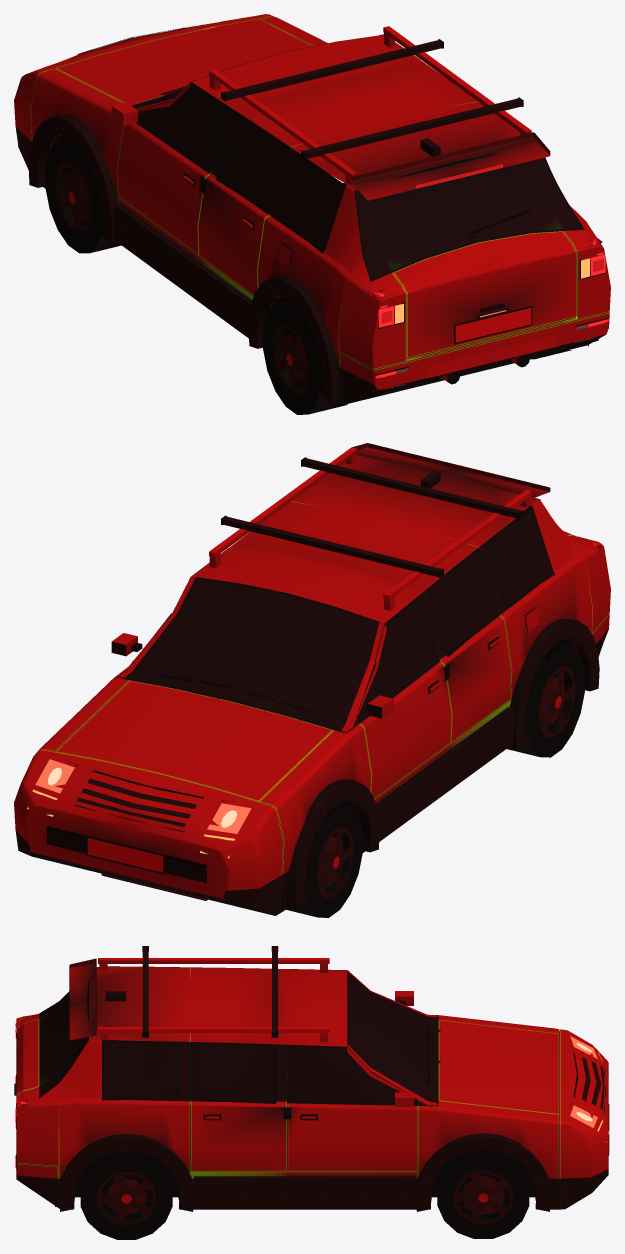
Rendered from body.glb.
3 renders of one model, top to bottom at view 1: azimuth 30°, elevation 25°; view 2: azimuth 150°, elevation 25°; view 3: azimuth 270°, elevation 25°, orthographic. The views are drawn at different scales.
Parts seen in each view (by area): view 1: body, hatch, glass_backlight, hood, door_l, rdoor_l, clad_sill_l, wheel_rl_mesh, wheel_fl_mesh, bumper_r, fender_fl, spoiler (+15 smaller); view 2: body, glass_windshield, bumper_f, hood, door_l, fender_fl, rdoor_l, clad_sill_l, wheel_rl_mesh, wheel_fl_mesh, rack_bars, glass_door_l (+15 smaller); view 3: body, hood, door_r, rdoor_r, glass_windshield, bumper_f, clad_sill_r, wheel_rr_mesh, wheel_fr_mesh, fender_fr, glass_door_r, glass_rdoor_r (+16 smaller).
Part boxes in pixels (x1=…): body: x1=118, y1=35, x2=610, y2=405; hatch: x1=393, y1=231, x2=576, y2=358; glass_backlight: x1=354, y1=158, x2=581, y2=279; hood: x1=56, y1=19, x2=312, y2=105; door_l: x1=117, y1=122, x2=209, y2=254; rdoor_l: x1=198, y1=107, x2=269, y2=295; clad_sill_l: x1=114, y1=203, x2=252, y2=338; wheel_rl_mesh: x1=263, y1=300, x2=346, y2=414; wheel_fl_mesh: x1=45, y1=139, x2=121, y2=253; bumper_r: x1=340, y1=312, x2=609, y2=404; fender_fl: x1=30, y1=68, x2=123, y2=203; spoiler: x1=351, y1=132, x2=550, y2=200; body: x1=188, y1=455, x2=610, y2=803; glass_windshield: x1=119, y1=579, x2=378, y2=733; bumper_f: x1=14, y1=749, x2=283, y2=915; hood: x1=56, y1=680, x2=332, y2=801; door_l: x1=359, y1=662, x2=451, y2=798; fender_fl: x1=259, y1=724, x2=371, y2=913; rdoor_l: x1=420, y1=589, x2=511, y2=742; clad_sill_l: x1=376, y1=707, x2=513, y2=841; wheel_rl_mesh: x1=507, y1=642, x2=584, y2=757; wheel_fl_mesh: x1=280, y1=803, x2=362, y2=917; rack_bars: x1=221, y1=457, x2=523, y2=577; glass_door_l: x1=356, y1=597, x2=438, y2=723; body: x1=16, y1=966, x2=417, y2=1209; hood: x1=438, y1=1020, x2=559, y2=1114; door_r: x1=287, y1=1103, x2=417, y2=1171; rdoor_r: x1=191, y1=1044, x2=286, y2=1171; glass_windshield: x1=348, y1=972, x2=437, y2=1102; bumper_f: x1=558, y1=1029, x2=608, y2=1209; clad_sill_r: x1=194, y1=1176, x2=415, y2=1206; wheel_rr_mesh: x1=80, y1=1152, x2=172, y2=1239; wheel_fr_mesh: x1=437, y1=1150, x2=529, y2=1238; fender_fr: x1=417, y1=1101, x2=559, y2=1209; glass_door_r: x1=289, y1=1045, x2=415, y2=1104; glass_rdoor_r: x1=192, y1=1042, x2=274, y2=1101.
Bounding box in the file's own units: 1.86 × 1.61 × 4.38.
